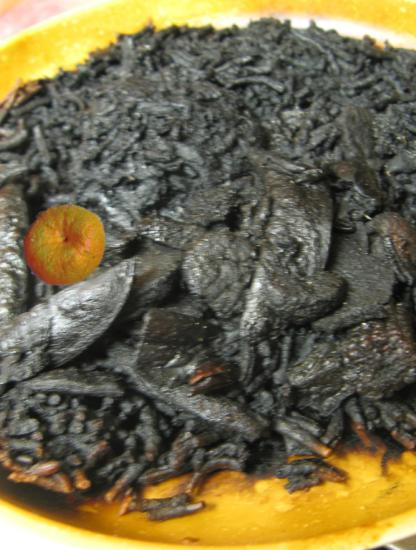Mandarine: (20, 199, 109, 288)
